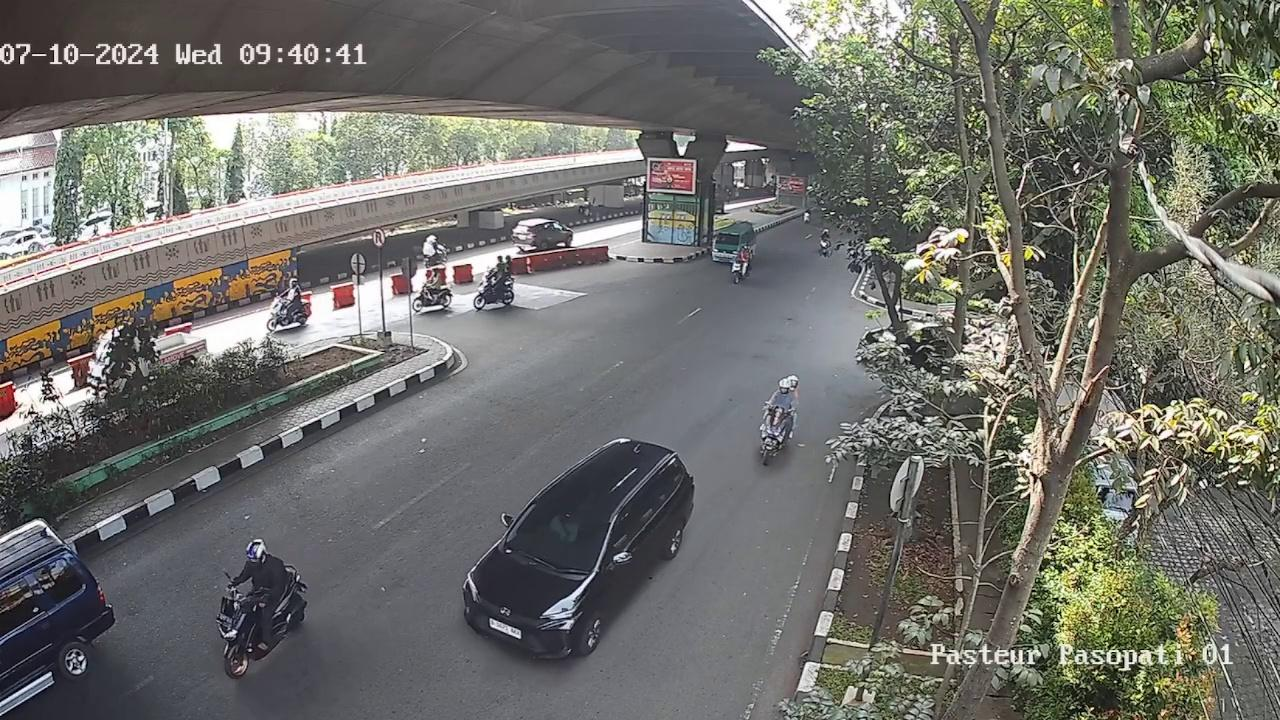pakai: (547, 511, 581, 548)
windshield: (508, 499, 614, 576)
